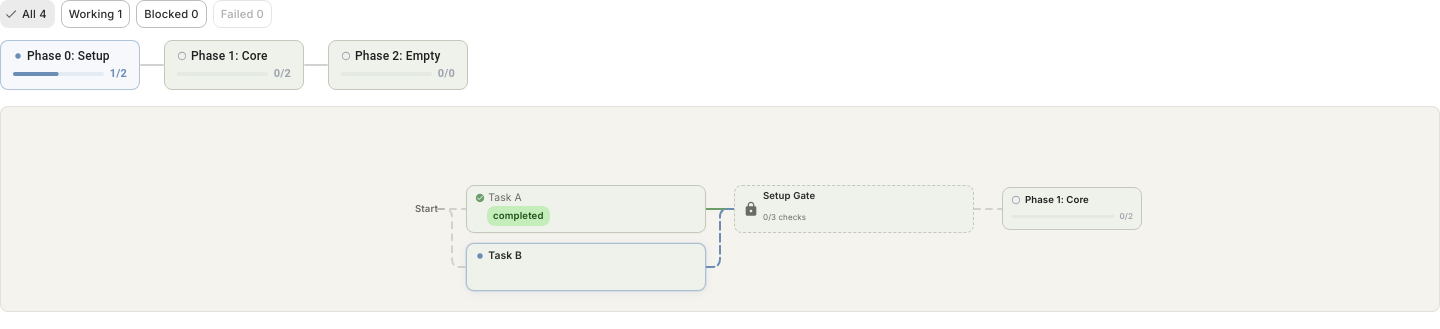
Test: Pipeline: single expansion › expands a collapsed phase on click
Expected: the text "Task C" is not shown
What coordinates should you click on to do the following:
click the button with test id "phase-card" showing "Phase 1: Core 0/2"
I would click on:
 (234, 65)
Its box is x1=164 y1=40 x2=304 y2=90.
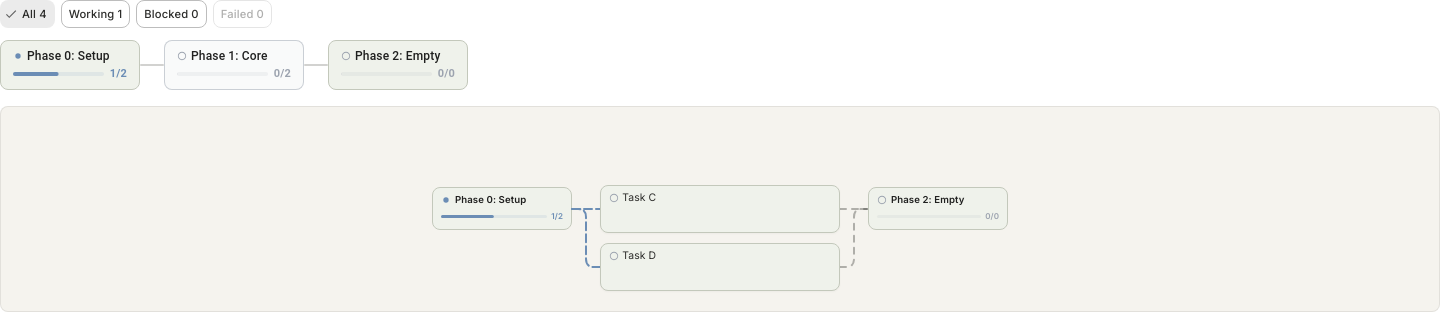
Expected: the text "Task C" is shown, x1=622 y1=191 x2=656 y2=204
Expected: the text "Task D" is shown, x1=622 y1=249 x2=656 y2=262
